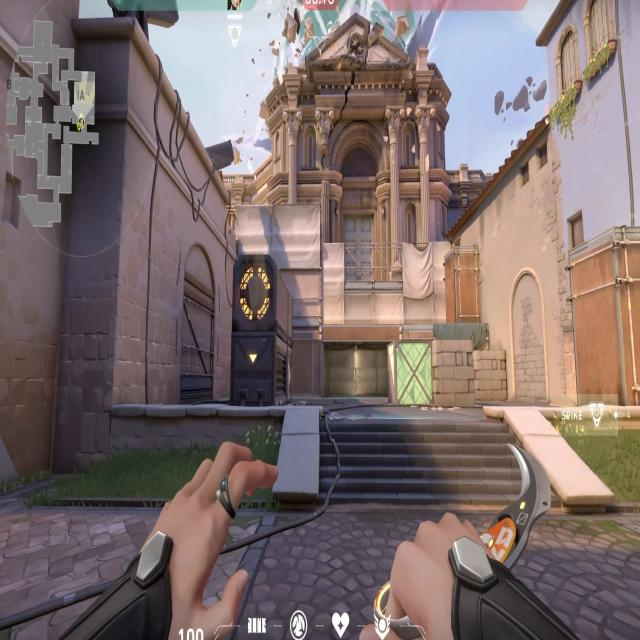A_Heaven_Box: (442, 245, 486, 324)
A_Heaven_Wall: (234, 204, 322, 334)
A_Site_Box: (387, 336, 477, 410)
